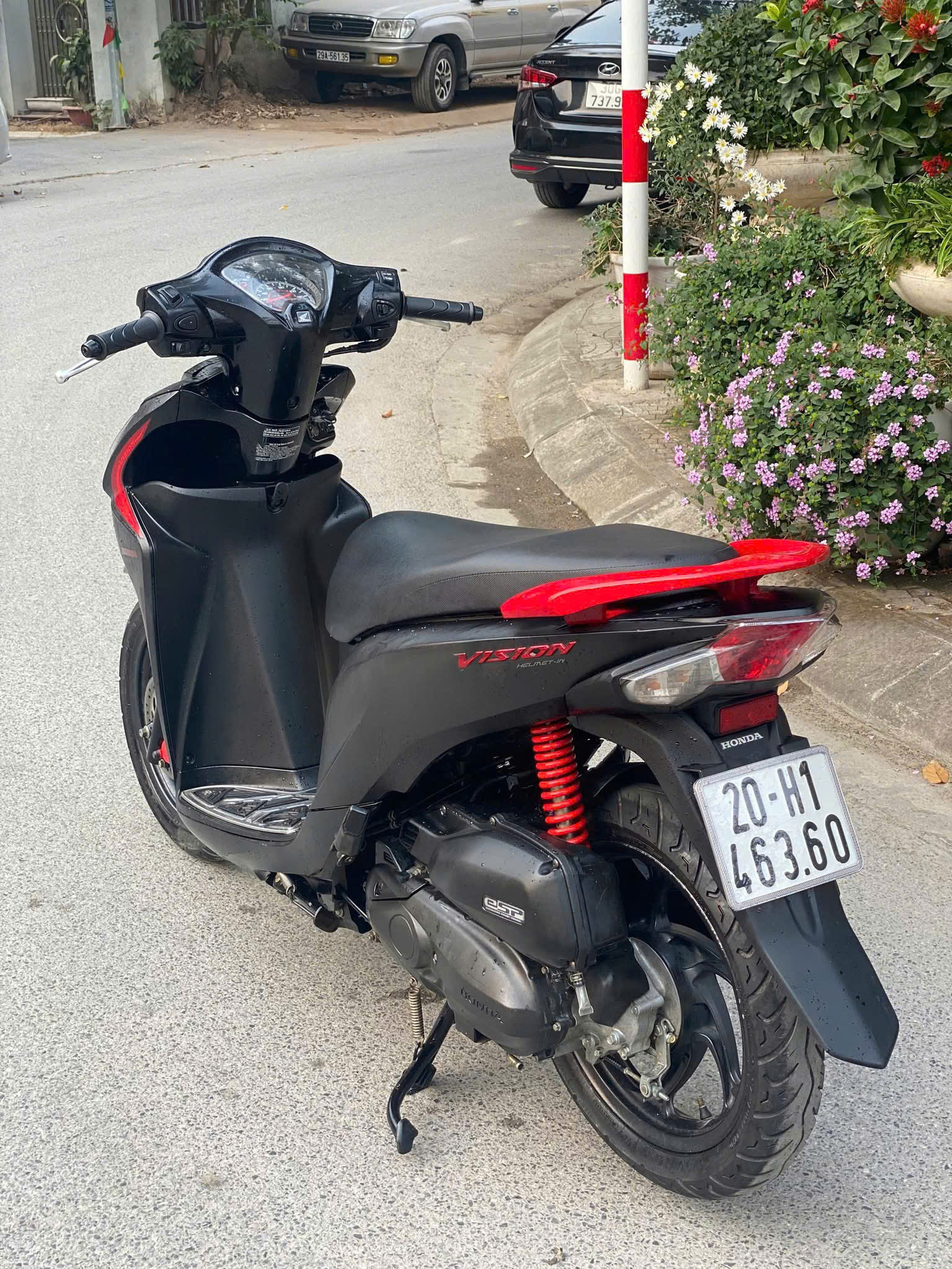Bien-so: (686, 742, 869, 918), (580, 85, 624, 115)
